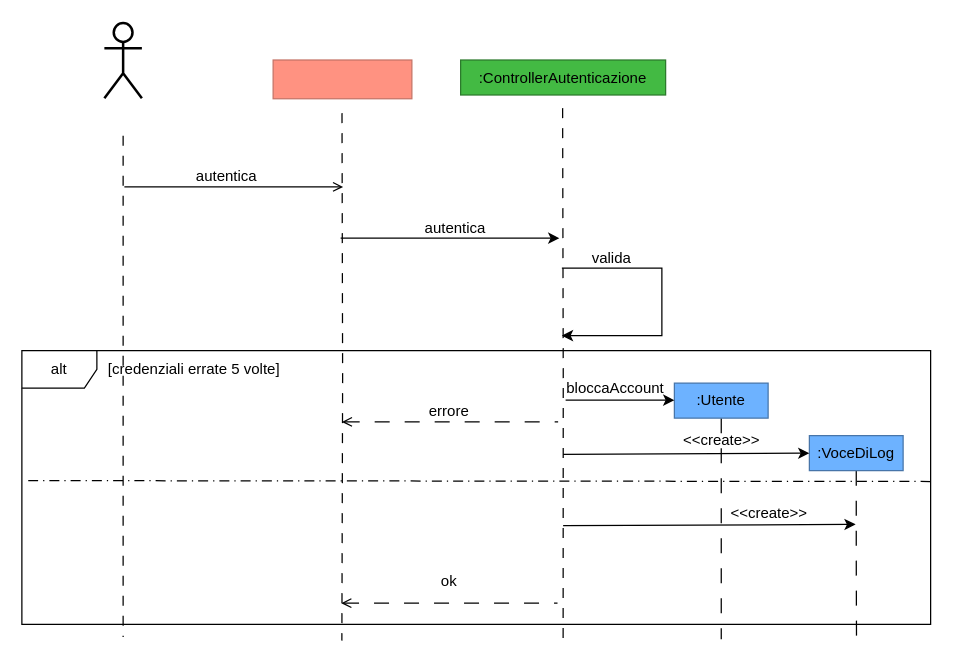
The diagram is 954 pixels wide and 670 high, and some of its shapes have lost their labels. The shapes that lost their labels are listed below. From the top down, each one's centre as x and y in pixels, then its label:
At point 122,60: "Utente".
At point 342,79: ":ViewAutenticazione".
